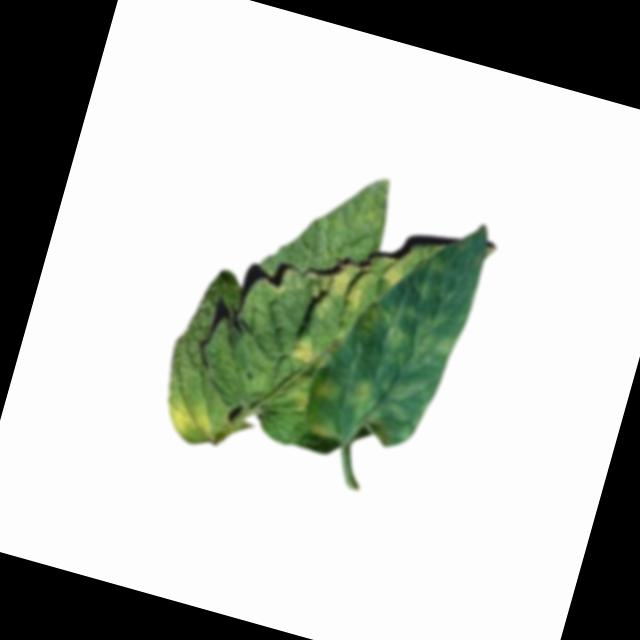Leaf_Mold: (353, 288, 464, 368), (374, 370, 434, 455), (308, 257, 368, 325), (161, 390, 218, 443), (338, 372, 380, 424), (278, 323, 324, 370), (298, 415, 332, 445), (377, 258, 406, 290), (309, 372, 338, 404)
